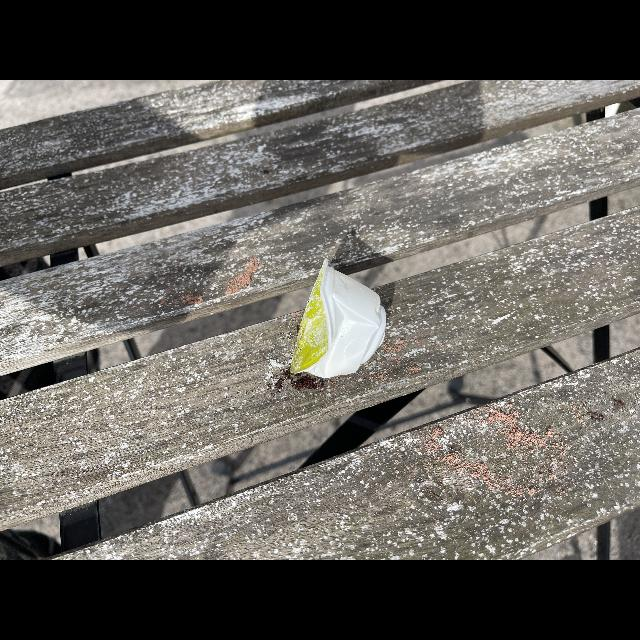damaged_capsule: (283, 254, 399, 386)
